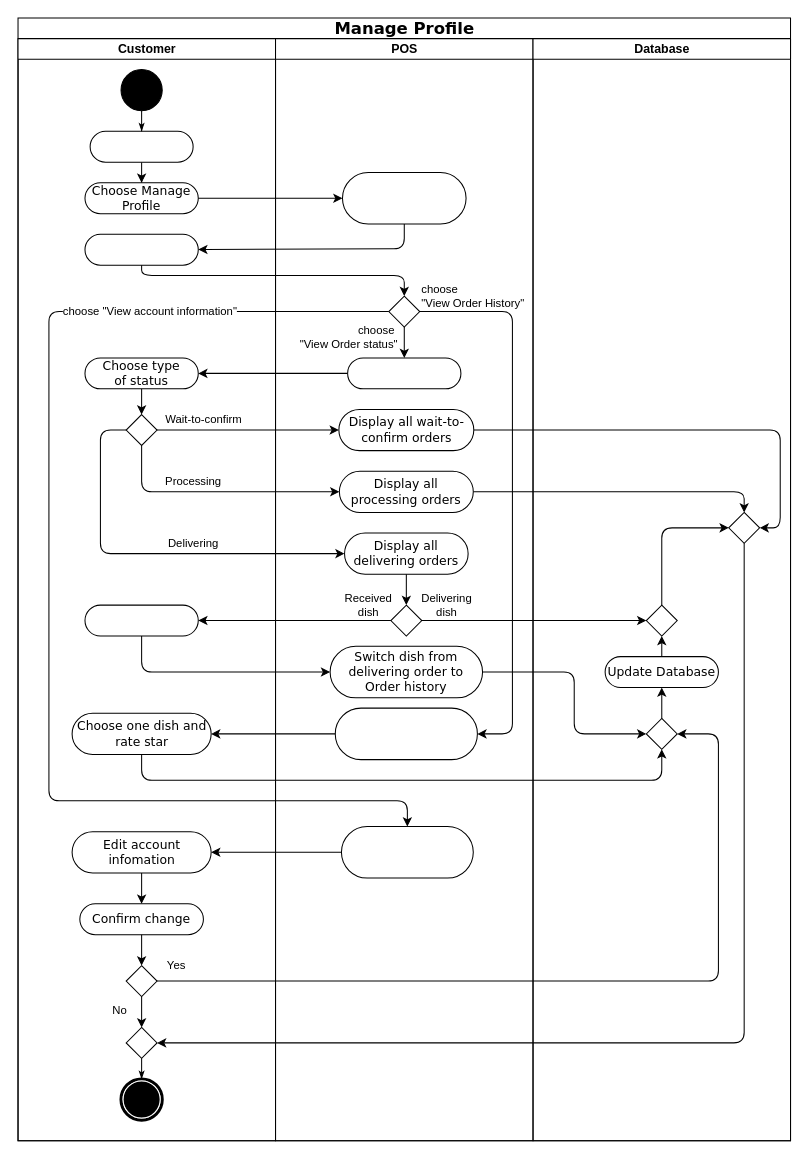
This 809x1159 diagram has some shape labels left out. The shapes that lost their labels are listed below. From the top down, each one's centre as x and y in pixels, then its label:
the point at 141,146: Login
the point at 403,197: Display profile management interface
the point at 141,249: Choose action
the point at 404,373: Display Order status menu
the point at 141,620: Confirm received dish
the point at 405,733: Display all received order form the past
the point at 406,852: Display all information of account
